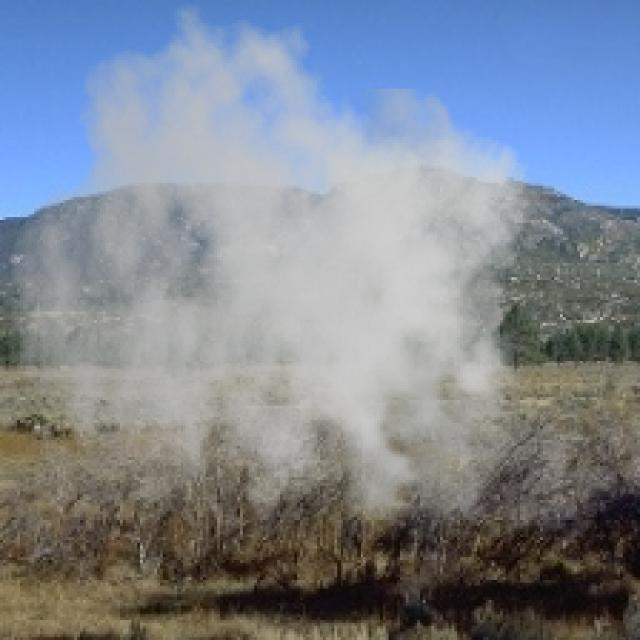smoke: (9, 3, 548, 560)
